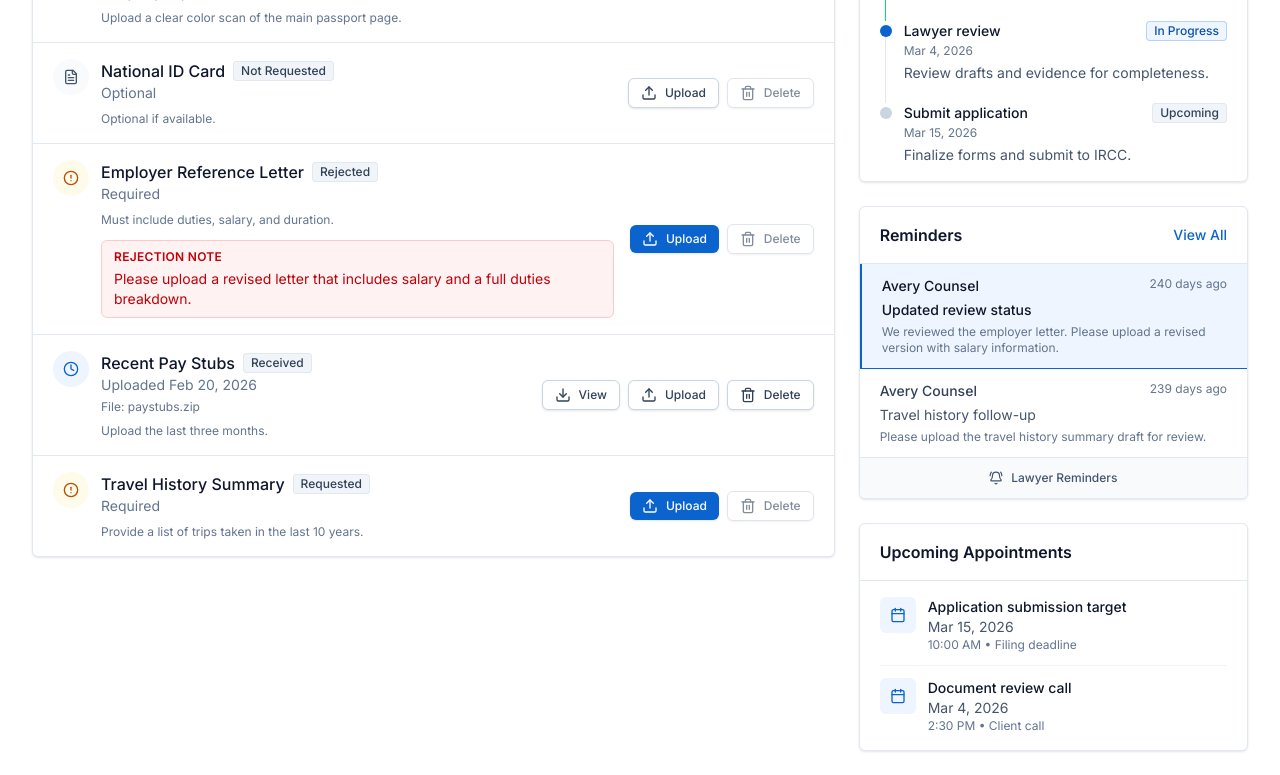
Test case: ClientDashboard reminders › CT-CLIENT-19: does not re-mark a reminder that was already read
(page scrolled)
Expected: the heading "Reminders" is shown, [880,223,962,247]
Click the button "Travel history follow-up". click: click(928, 390)
box: [860,369,1247,457]
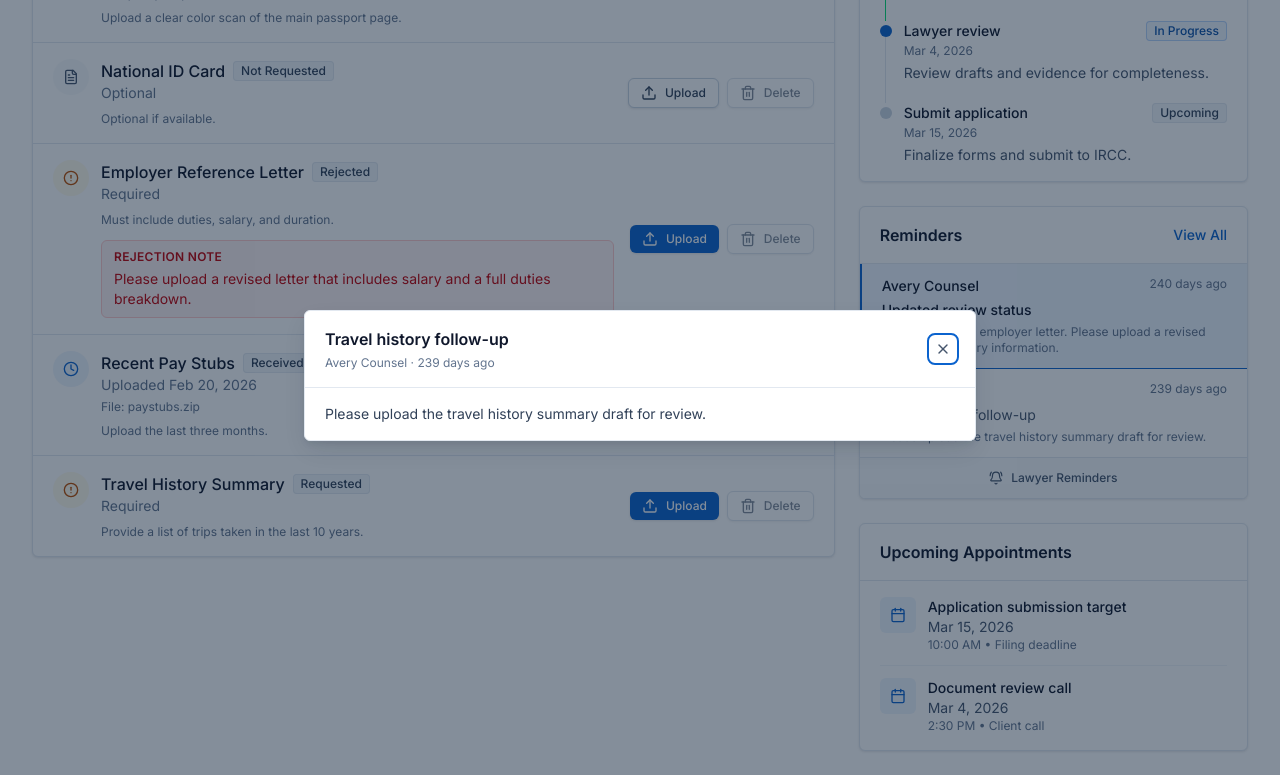
Expected: the dialog "Travel history follow-up" is shown, [304,310,976,440]
